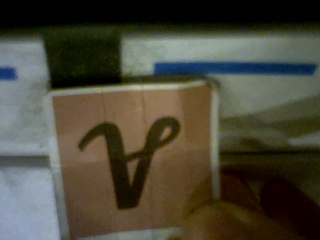A: (50, 84, 216, 238)
